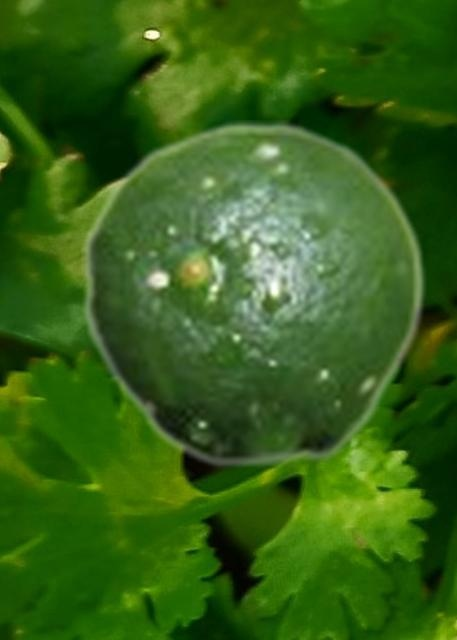calamansi: (81, 120, 426, 469)
